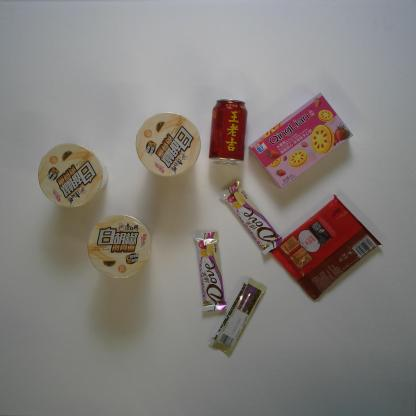Chocolate: (218, 176, 284, 256), (208, 275, 268, 358), (189, 230, 228, 313)
Dessert: (269, 193, 383, 301), (248, 90, 354, 189)
Drink: (208, 98, 248, 166)
Instant Noodles: (36, 142, 110, 209), (135, 112, 202, 178), (87, 212, 152, 278)
